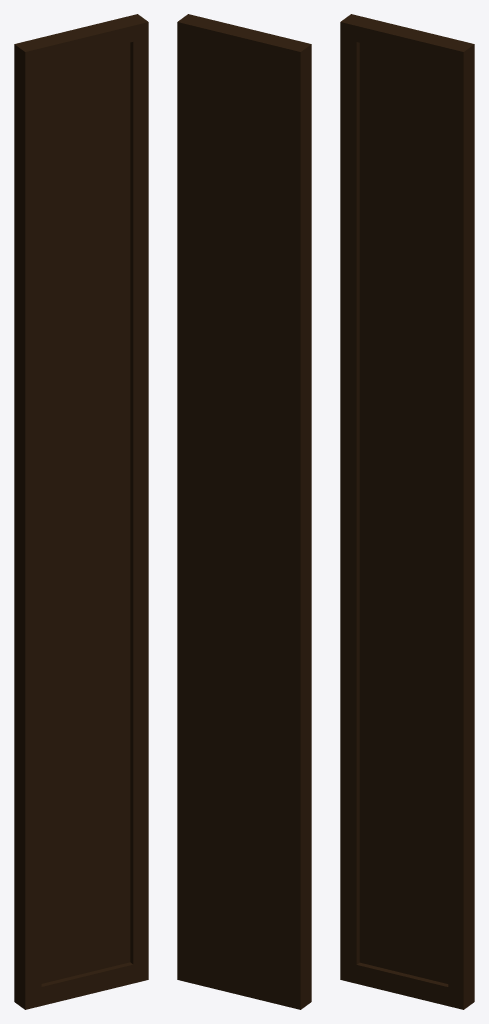
Rendered from CaligraphyPane.fbx.
The picture shows the model from 3 angles, left to right: view 1: azimuth 30°, elevation 25°; view 2: azimuth 150°, elevation 25°; view 3: azimuth 330°, elevation 25°; orthographic projection.
Visible parts, largest first — view 1: Cube.035; view 2: Cube.035; view 3: Cube.035.
Part boxes in pixels (bbox=[...]): Cube.035: bbox=[14, 14, 148, 1009]; Cube.035: bbox=[177, 14, 311, 1009]; Cube.035: bbox=[340, 14, 474, 1009].
Size of the model in its own units: 4.12 by 26.97 by 200.
